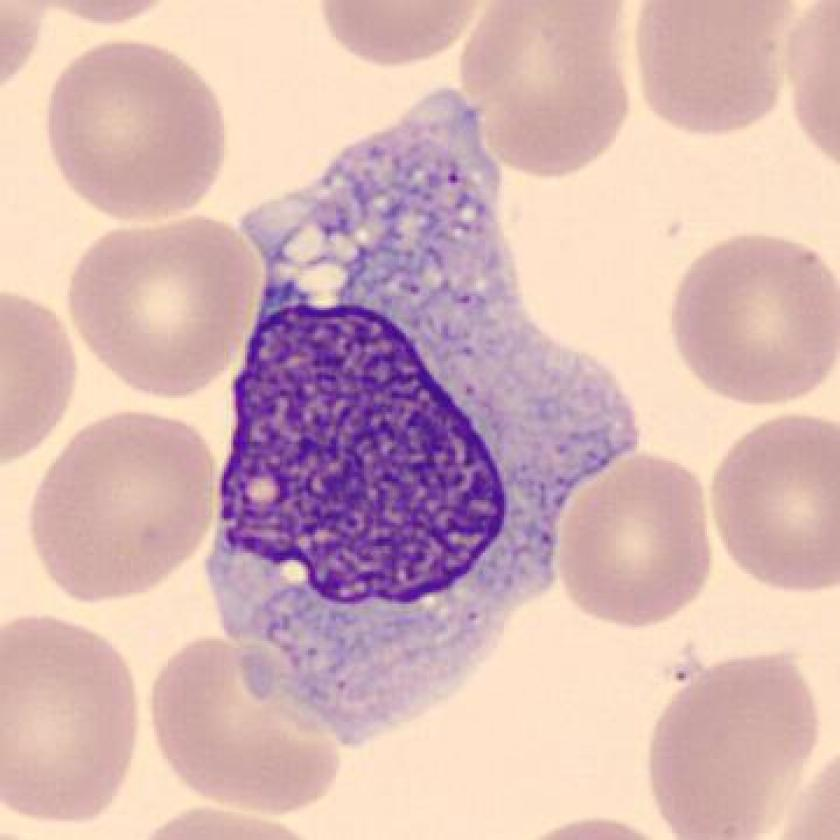monocyte: (202, 68, 640, 769)
